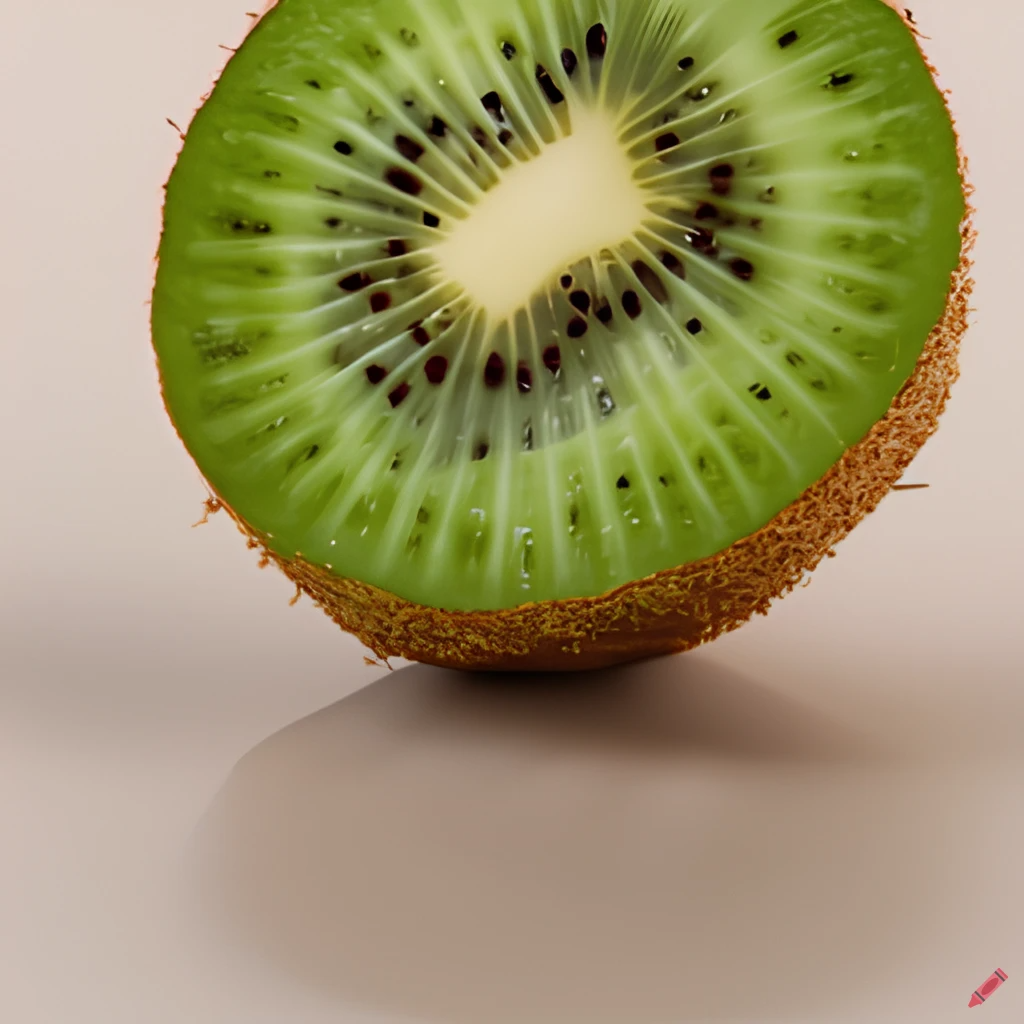Kiwi: (139, 3, 974, 728)
